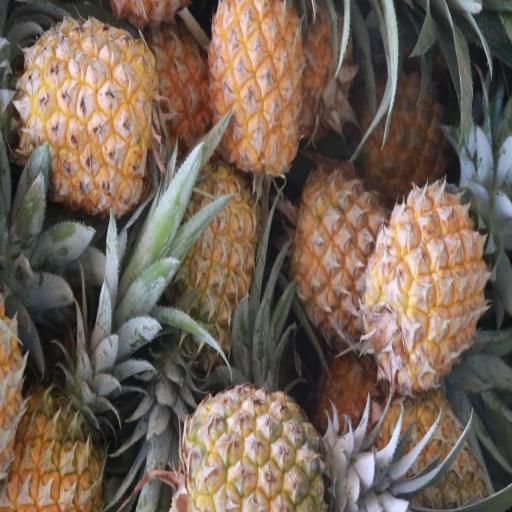------------------------------: (184, 389, 344, 511), (295, 168, 389, 349)
Pineapple - v8 v1: (25, 22, 154, 214), (368, 184, 487, 386), (175, 168, 257, 368), (213, 0, 304, 175), (362, 62, 449, 185)
